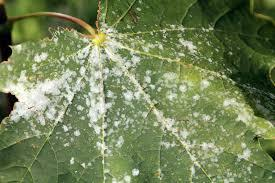powdery_mildew: (2, 14, 269, 173)
